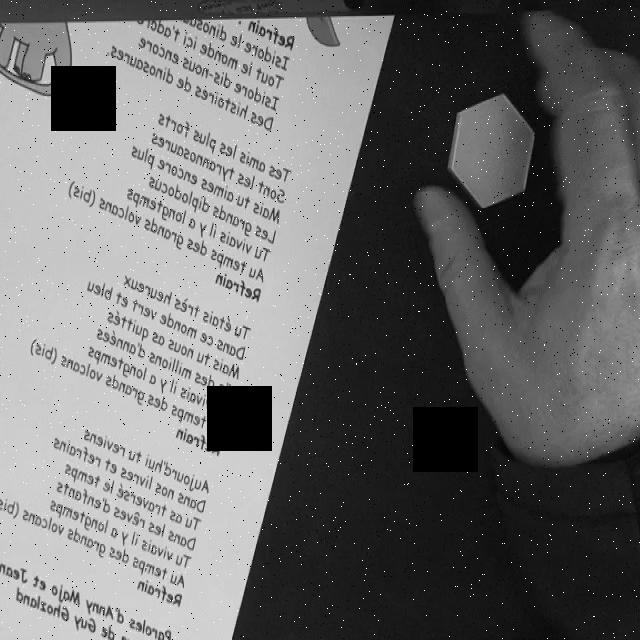hexagon: (448, 92, 537, 210)
